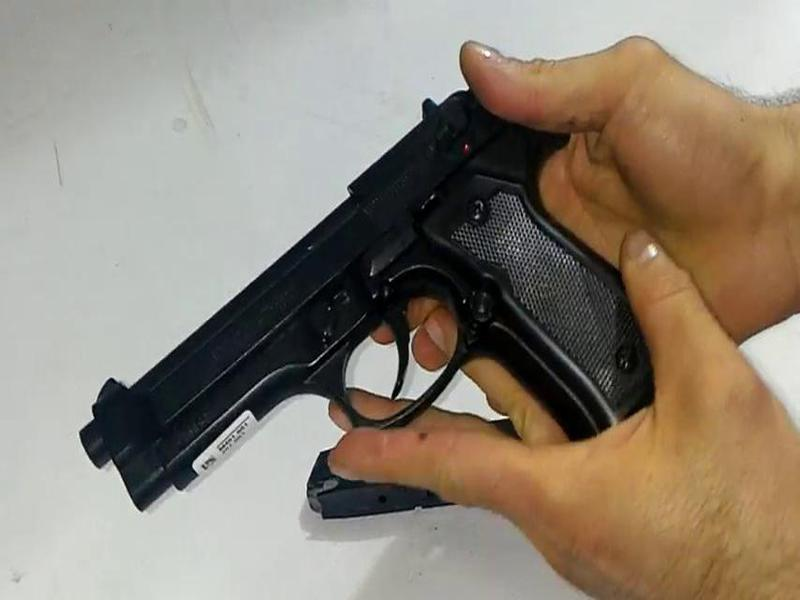Pistola: (33, 33, 700, 527)
